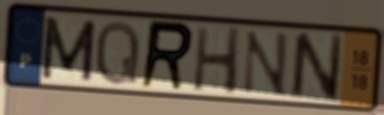H: (191, 25, 245, 98)
M: (38, 14, 99, 84)
N: (288, 30, 346, 103), (239, 28, 292, 98)
Q: (92, 17, 142, 88)
R: (137, 17, 197, 93)
